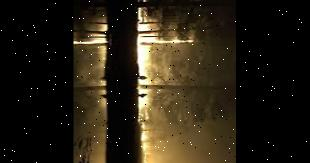fire: (132, 0, 188, 61), (133, 111, 173, 163)
